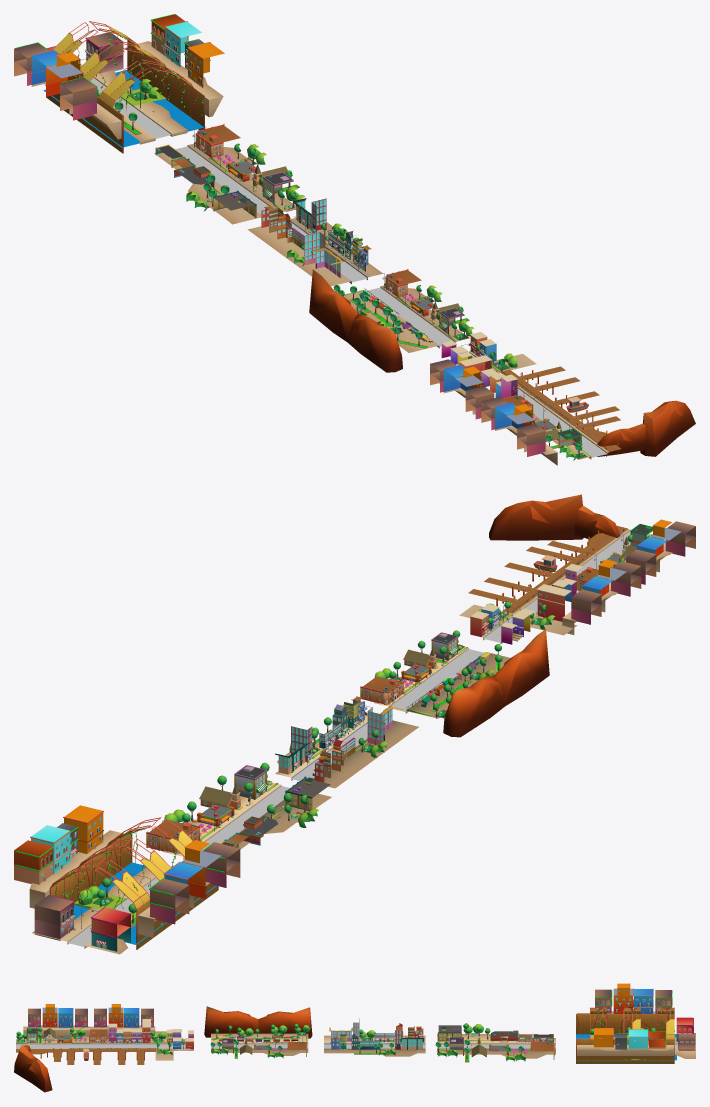
Rendered from City_patch_Final_Update.fbx.
The picture shows the model from 3 angles, top to bottom: view 1: azimuth 30°, elevation 25°; view 2: azimuth 150°, elevation 25°; view 3: azimuth 270°, elevation 25°; orthographic projection. The views are drawn at different scales.
Visible parts, largest first — view 1: Patch_1:mesh_env1, Patch_5:mesh_env, Patch_4:mesh_env, Patch_2:Mesh_ENV, Patch_3:mesh_env, Patch_4:road, waterGround, Patch_2:Road, road2, Patch_1:road; view 2: Patch_1:mesh_env1, Patch_5:mesh_env, Patch_4:mesh_env, Patch_2:Mesh_ENV, Patch_3:mesh_env, Patch_4:road, Patch_2:Road, road2, waterGround; view 3: Patch_5:mesh_env, Patch_1:mesh_env1, Patch_4:mesh_env, Patch_2:Mesh_ENV, Patch_3:mesh_env, road2, Patch_2:Road, waterGround, Patch_4:road.
Part boxes in pixels (box(x1,y1,x2,y2)): Patch_1:mesh_env1: box(14, 14, 224, 153); Patch_5:mesh_env: box(430, 332, 695, 465); Patch_4:mesh_env: box(309, 269, 474, 372); Patch_2:Mesh_ENV: box(154, 123, 305, 224); Patch_3:mesh_env: box(247, 198, 382, 286); Patch_4:road: box(366, 287, 455, 346); waterGround: box(43, 70, 205, 147); Patch_2:Road: box(175, 146, 268, 214); road2: box(472, 356, 606, 457); Patch_1:road: box(90, 78, 171, 138); Patch_1:mesh_env1: box(14, 805, 240, 954); Patch_5:mesh_env: box(459, 494, 695, 644); Patch_4:mesh_env: box(360, 629, 549, 737); Patch_2:Mesh_ENV: box(146, 762, 331, 859); Patch_3:mesh_env: box(275, 696, 418, 788); Patch_4:road: box(391, 649, 483, 711); Patch_2:Road: box(183, 786, 289, 858); road2: box(483, 531, 630, 642); waterGround: box(74, 862, 216, 944); Patch_5:mesh_env: box(14, 1004, 193, 1092); Patch_1:mesh_env1: box(576, 983, 695, 1063); Patch_4:mesh_env: box(204, 1006, 312, 1058); Patch_2:Mesh_ENV: box(435, 1023, 555, 1062); Patch_3:mesh_env: box(324, 1018, 425, 1056); road2: box(16, 1044, 185, 1048); Patch_2:Road: box(437, 1044, 555, 1048); waterGround: box(576, 1034, 676, 1060); Patch_4:road: box(211, 1044, 308, 1048).
Bounding box in the file's own units: 3649 × 1429 × 17220.
